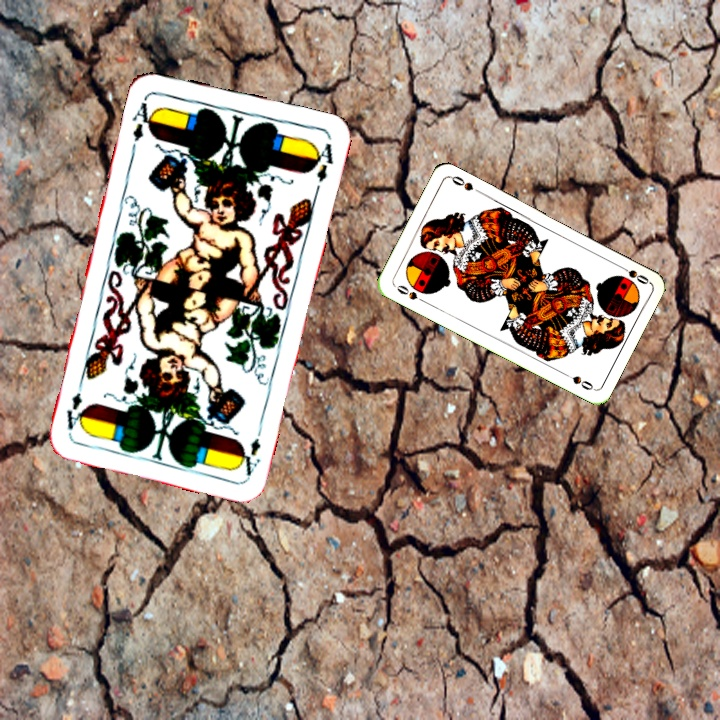EA: (234, 420, 265, 479), (128, 93, 159, 144)
SO: (613, 261, 652, 287), (391, 281, 428, 306)
